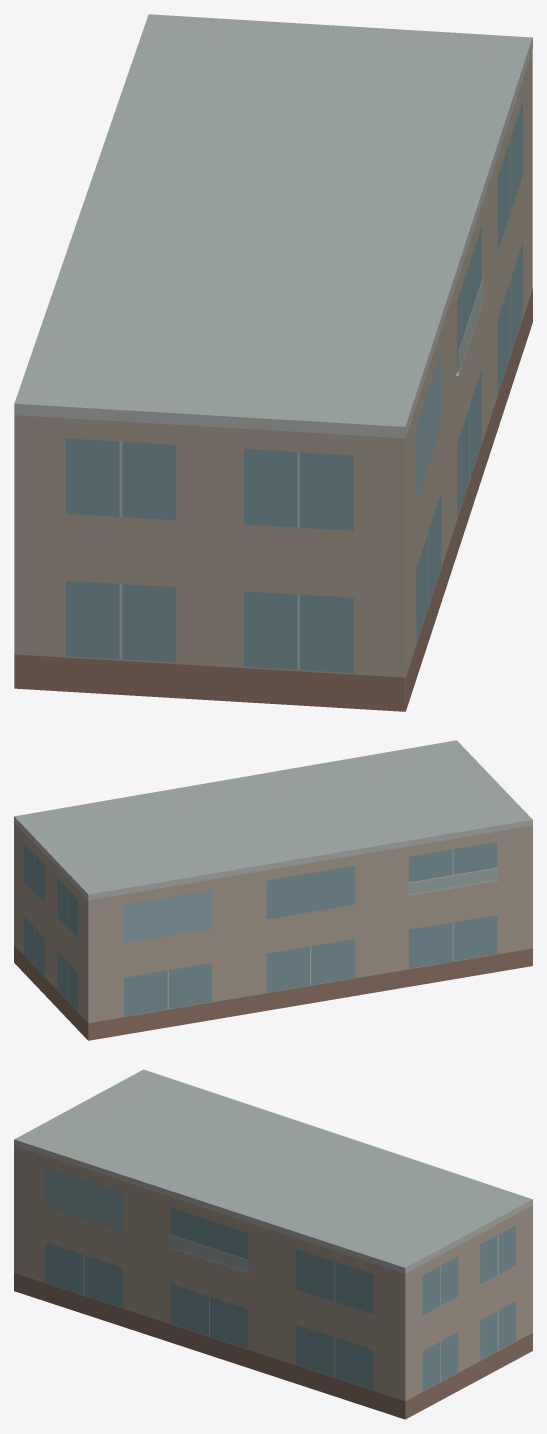
File: survey-upis-32884750.glb
3 renders of one model, top to bottom at view 1: azimuth 30°, elevation 25°; view 2: azimuth 150°, elevation 25°; view 3: azimuth 270°, elevation 25°, orthographic. The views are drawn at different scales.
Parts seen in each view (by area): view 1: survey-upis-32884750.tmp; view 2: survey-upis-32884750.tmp; view 3: survey-upis-32884750.tmp.
Part boxes in pixels (bbox=[...]): survey-upis-32884750.tmp: bbox=[14, 14, 532, 711]; survey-upis-32884750.tmp: bbox=[14, 740, 532, 1040]; survey-upis-32884750.tmp: bbox=[14, 1069, 532, 1419].
Bounding box in the file's own units: 17.14 × 6.1 × 18.93.
